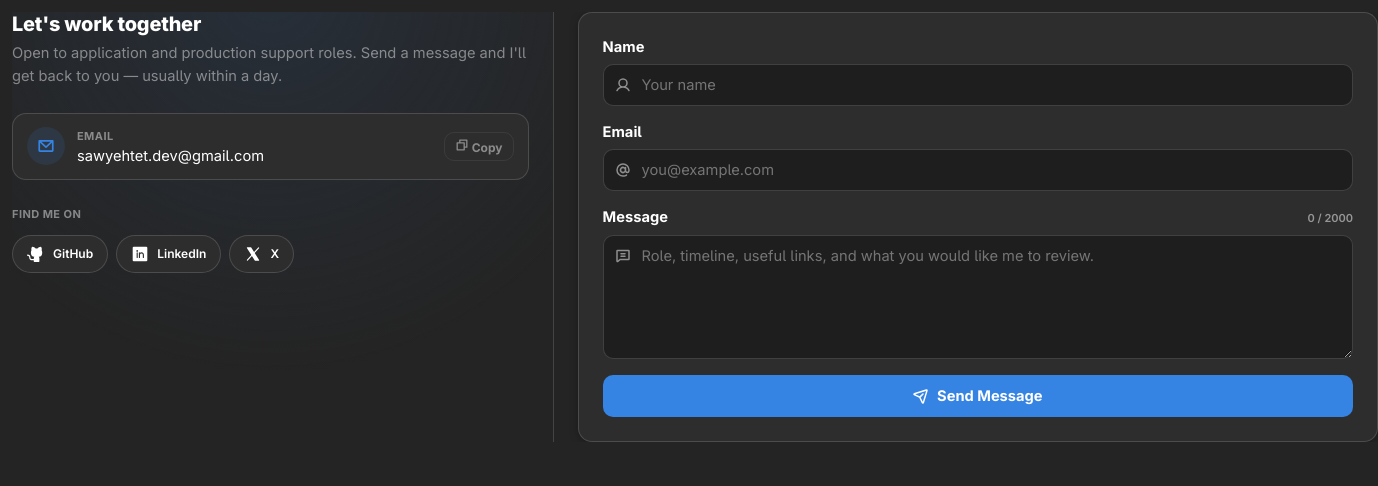
Scenario: ContactApp form validation › shows invalid email error for bad email
Type "Test User" into the field labelled "Name" at x=978, y=85, box [603, 64, 1353, 106]
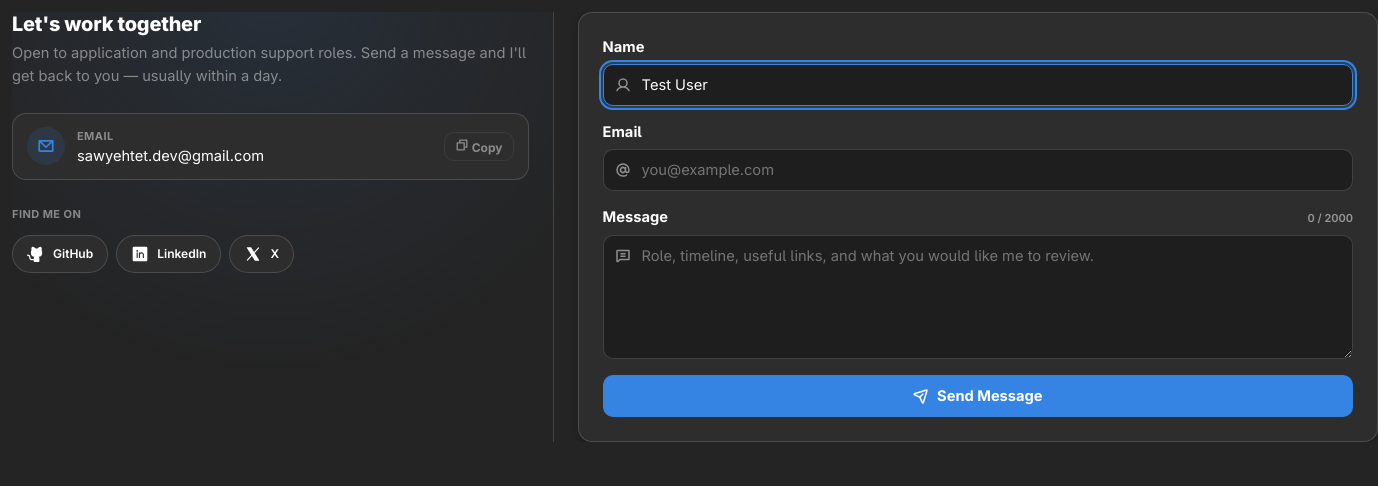
Type "not-an-email" into the field labelled "Email" at x=978, y=170, box [603, 149, 1353, 191]
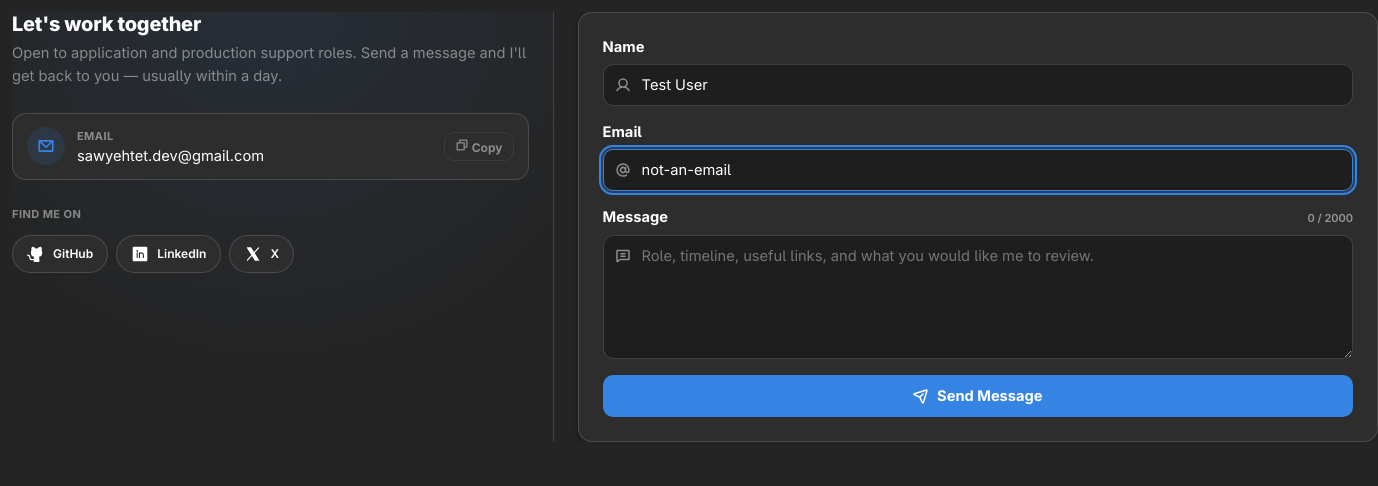
Type "Hello, this is a test message for validation." into the text box labelled "Message" at x=978, y=297, box [603, 235, 1353, 359]
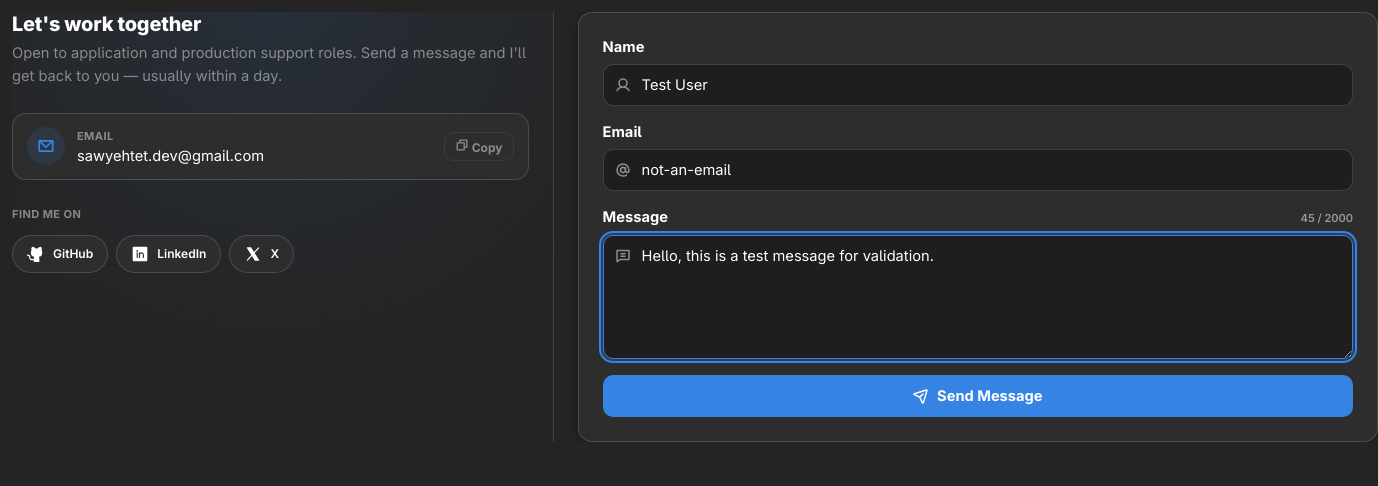
Click the button "Send Message" at x=978, y=396, box [603, 375, 1353, 417]
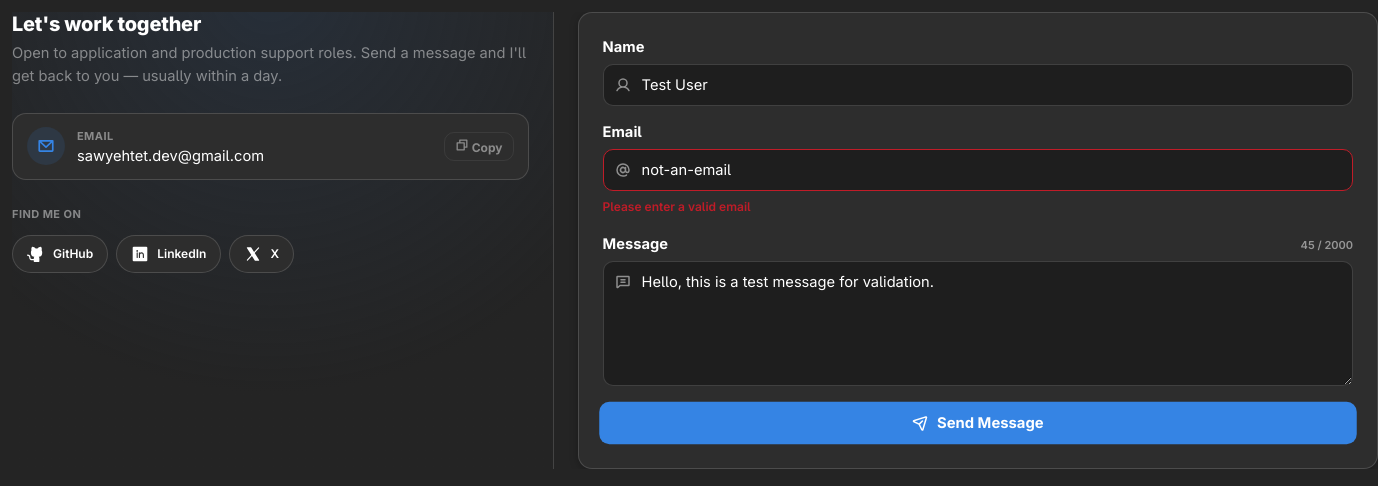
Expected: the text "Please enter a valid email" is shown, [603, 199, 751, 214]
